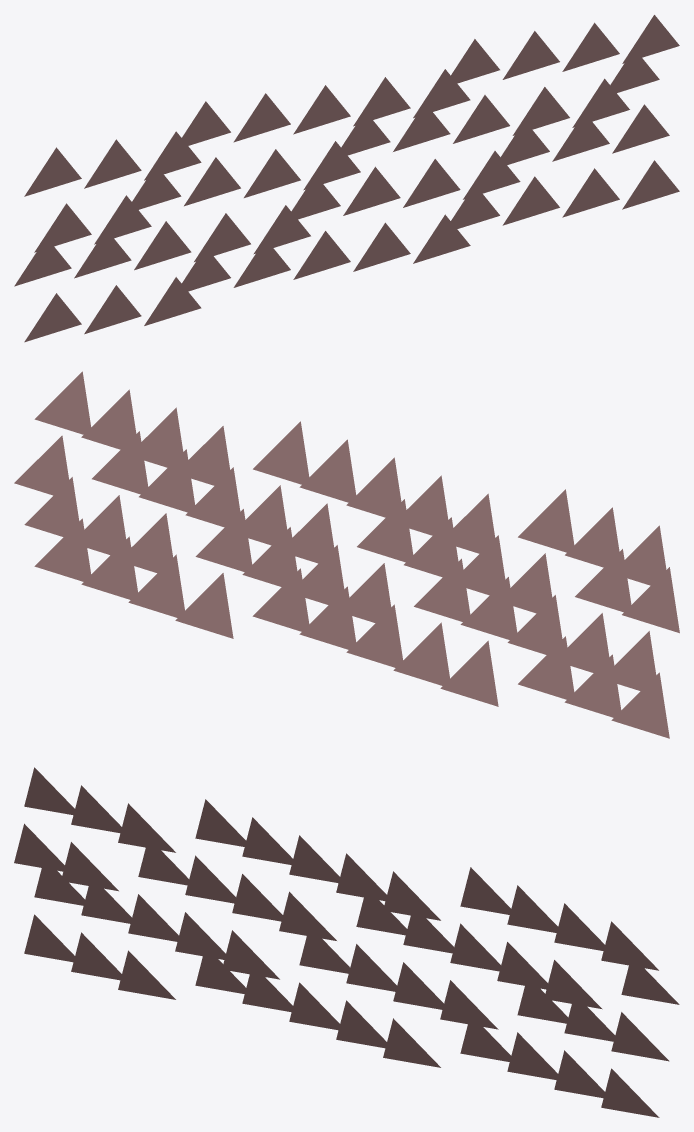
The model's file is prop_bulk_gen_0156_lod0.gltf.
3 views of the same model, one above another, from view 1: azimuth 30°, elevation 25°; view 2: azimuth 150°, elevation 25°; view 3: azimuth 330°, elevation 25° (orthographic).
Visible parts, largest first — view 1: prop_bulk_gen_0156_lod0; view 2: prop_bulk_gen_0156_lod0; view 3: prop_bulk_gen_0156_lod0.
Boxes of the visible parts, box(x1,y1,x2,y2) form: prop_bulk_gen_0156_lod0: box(14, 15, 679, 342); prop_bulk_gen_0156_lod0: box(14, 371, 679, 738); prop_bulk_gen_0156_lod0: box(14, 767, 679, 1117).
Size of the model in its own units: 0.665 by 0.196 by 0.068.
